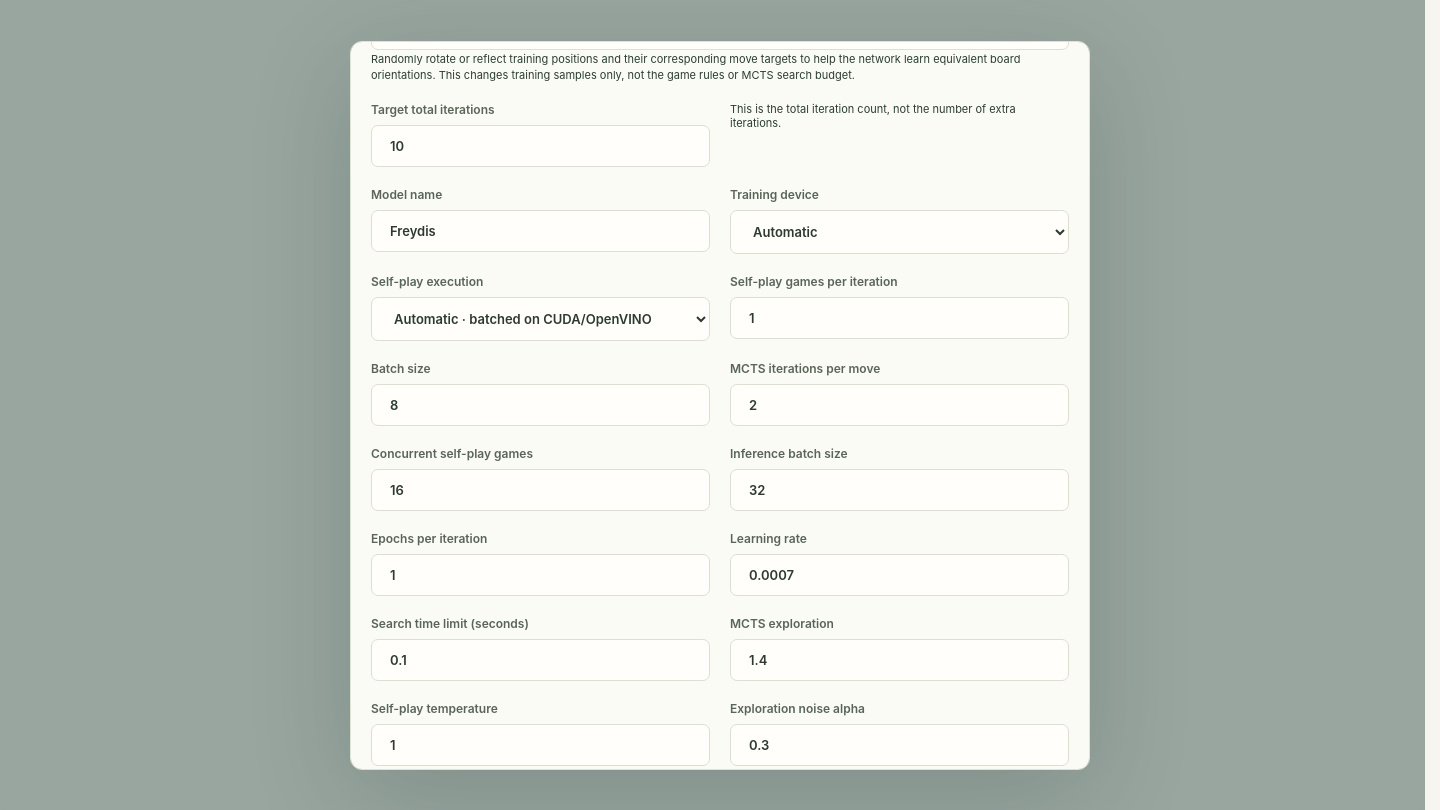
validates the same integer bounds and even evaluation budget as new training
The width and height of the screenshot is (1440, 810).
(page scrolled)
Replace the text in the number field labelled "Batch size" with "2.5" at x=540, y=405, box [371,384,710,426]
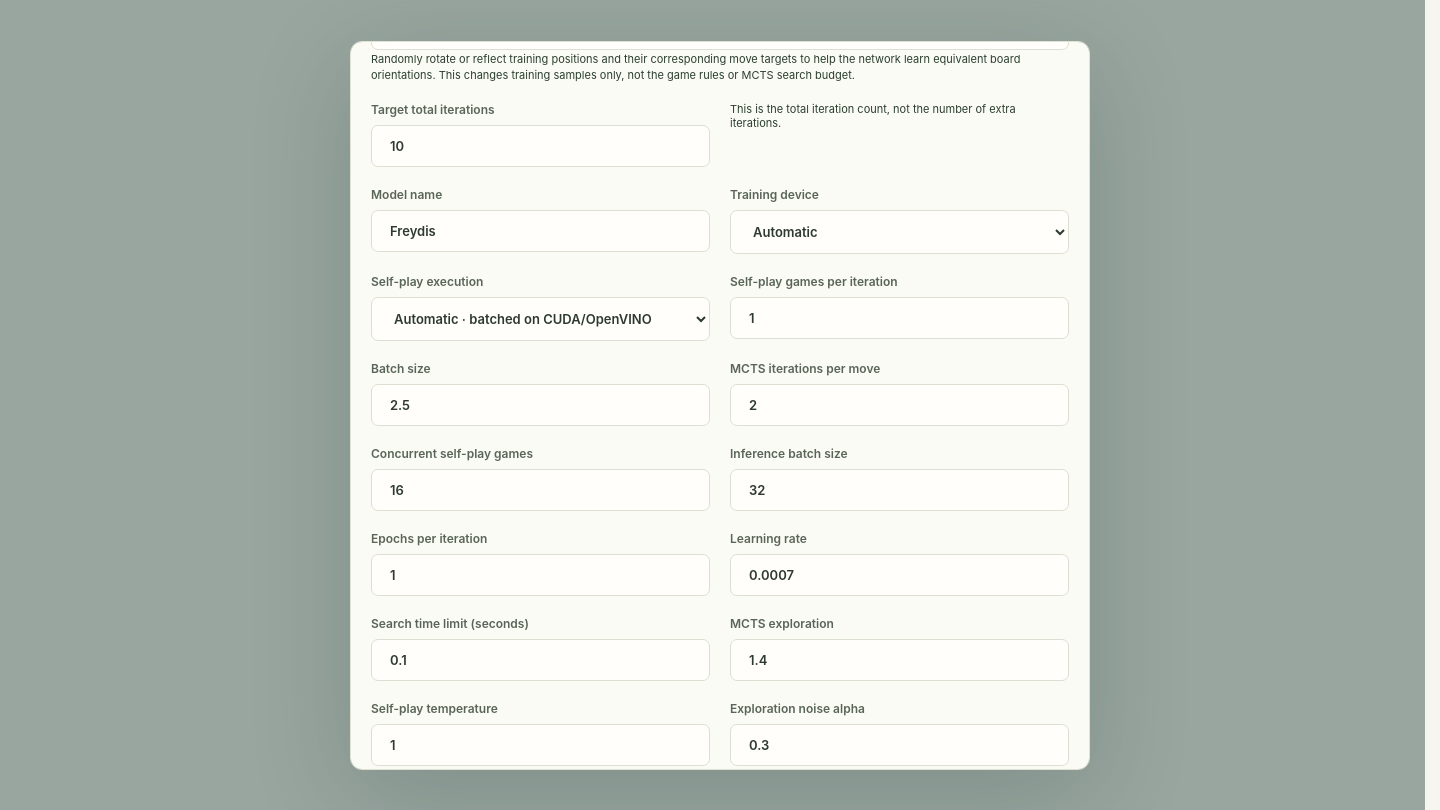
Replace the text in the number field labelled "Batch size" with "2" at x=540, y=405, box [371,384,710,426]
(page scrolled)
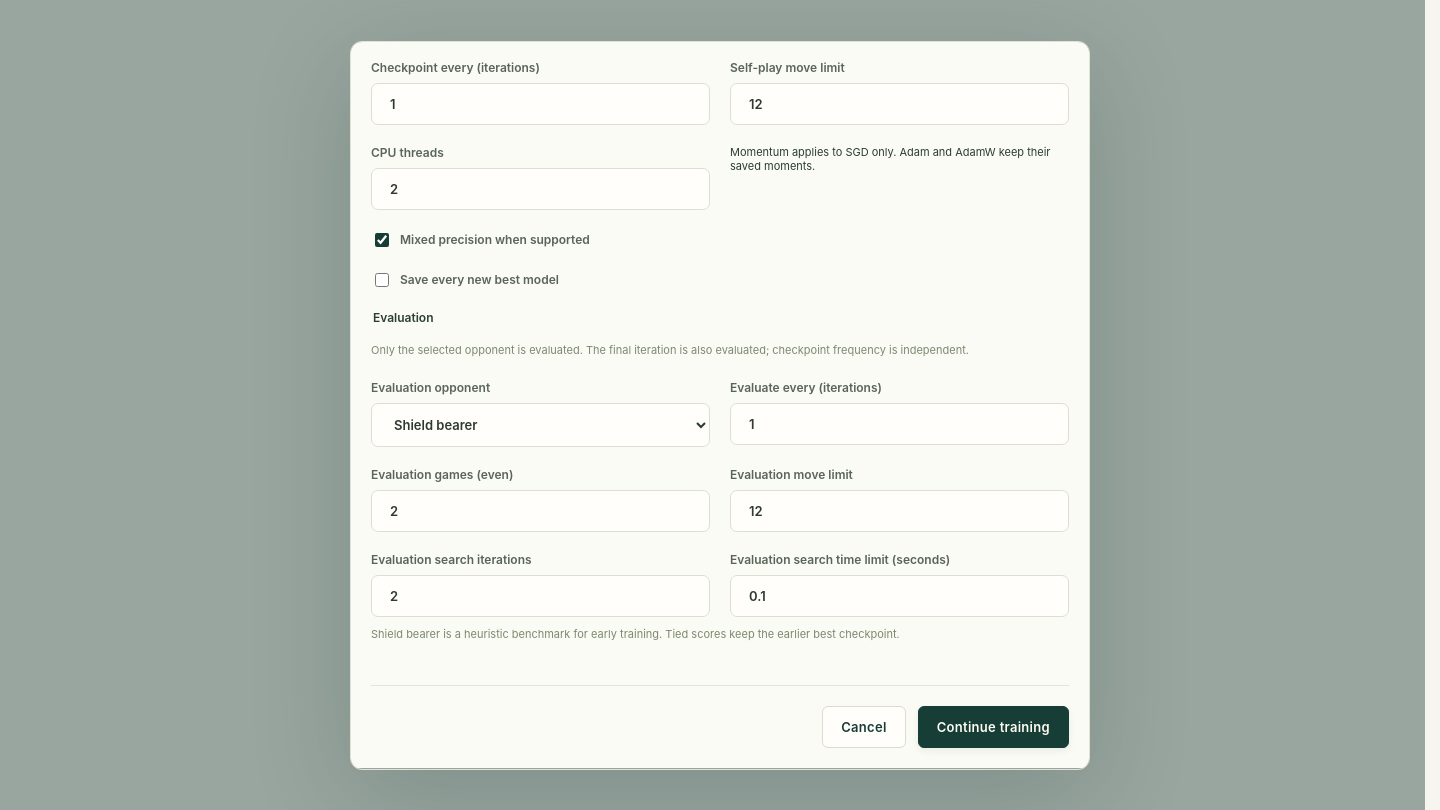
Replace the text in the number field labelled "Evaluation games (even)" with "3" at x=540, y=511, box [371,490,710,532]
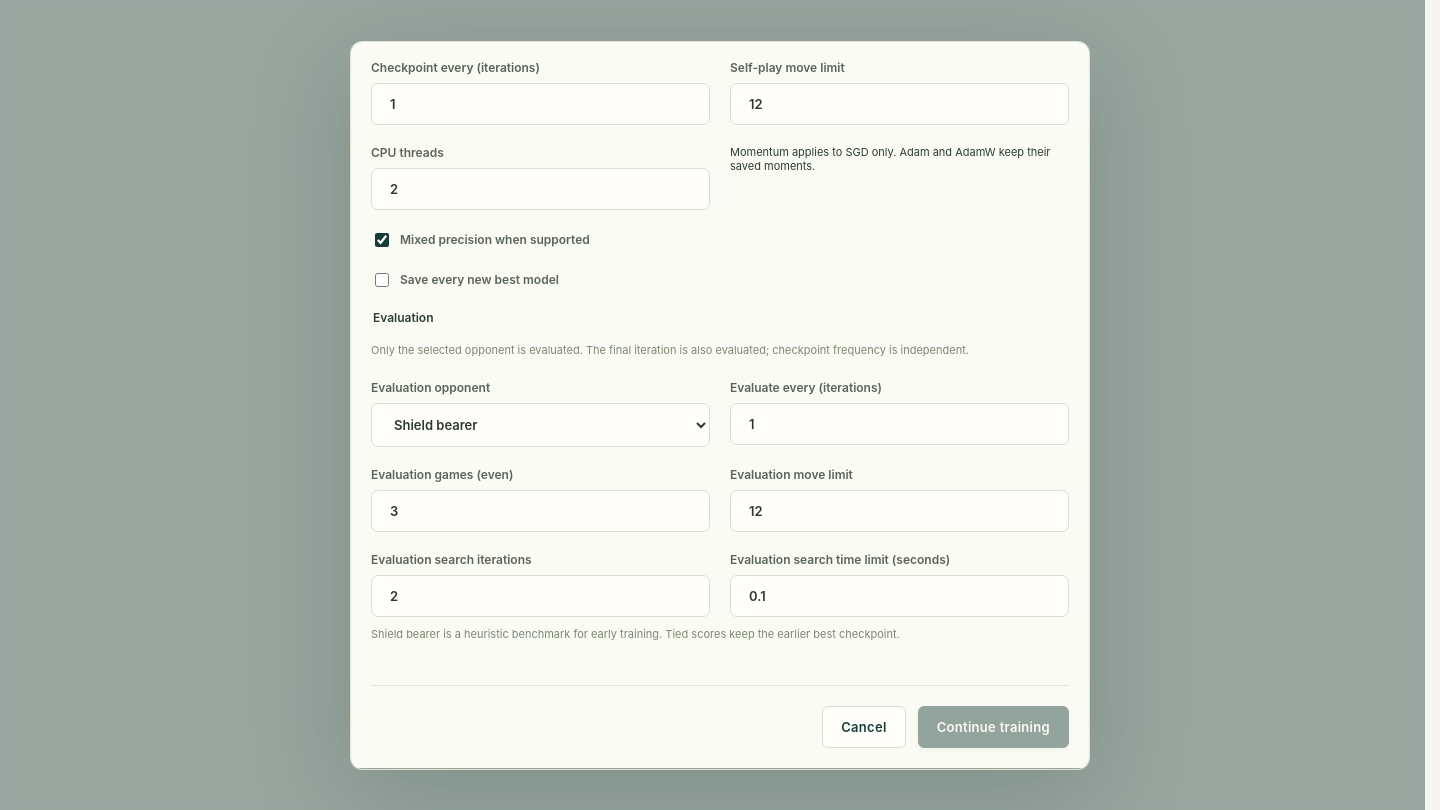
Expected: the button "Continue training" is disabled, [918,706,1069,748]
